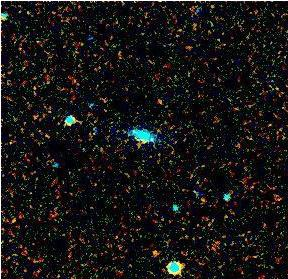star: (140, 239, 170, 269)
